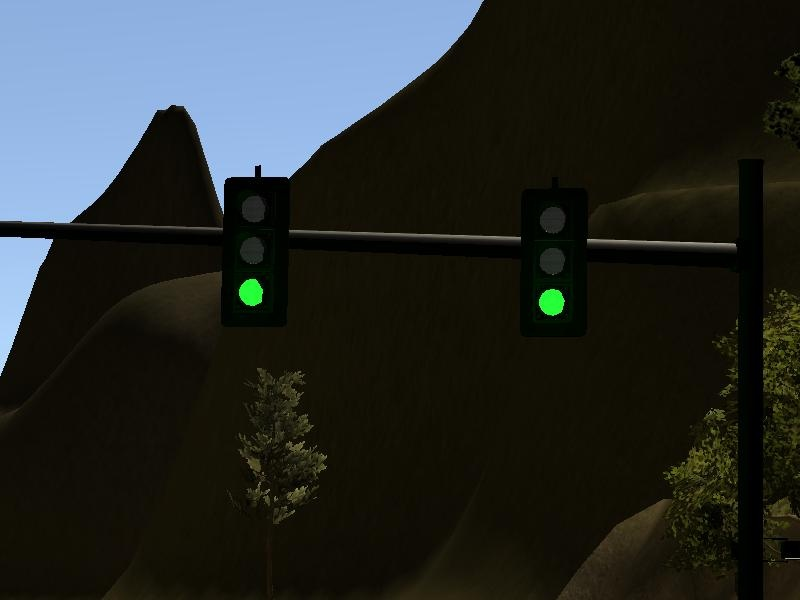green: (214, 166, 297, 337), (510, 178, 593, 342)
